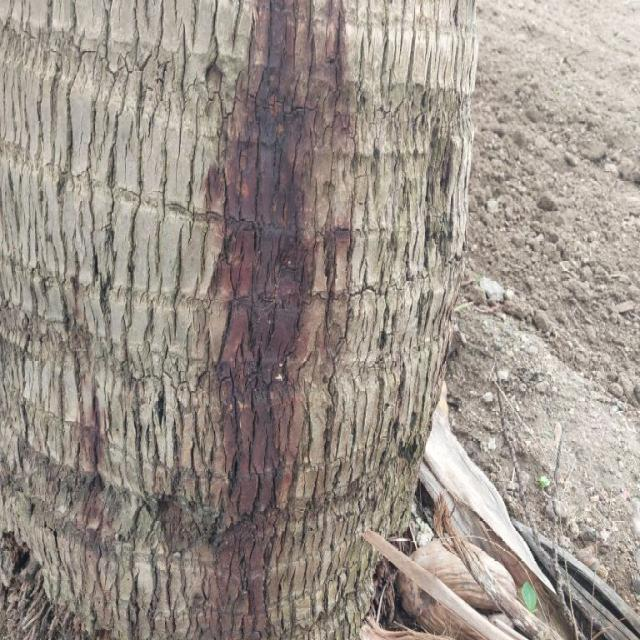stembleeding: (170, 0, 352, 619)
